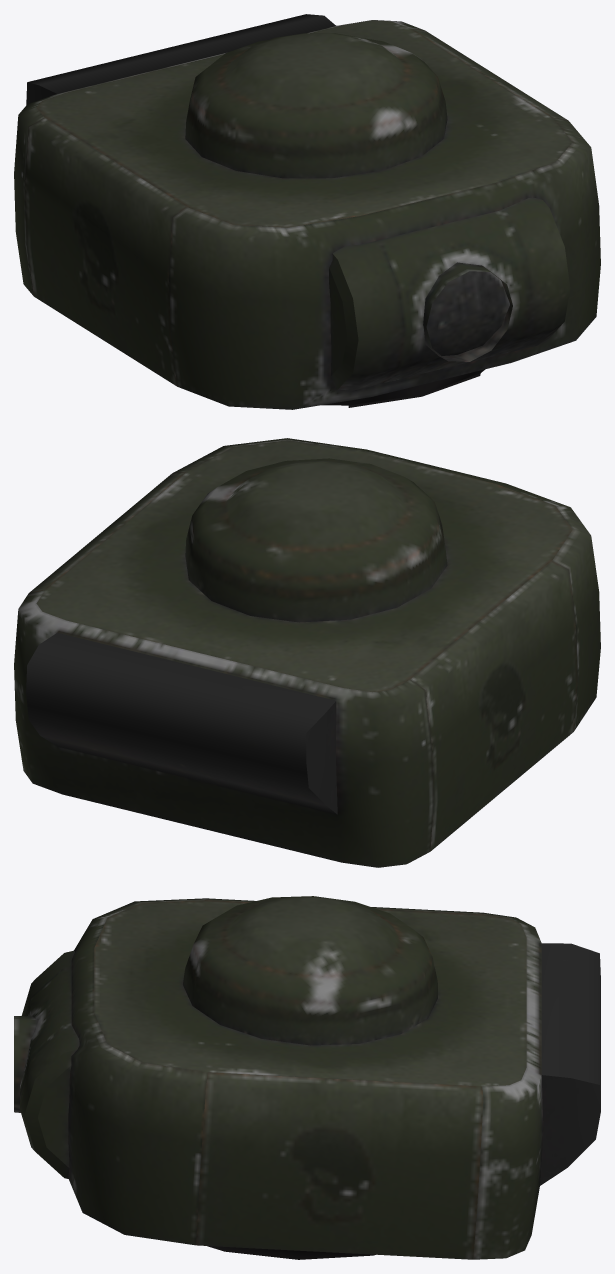
The model's file is head.obj.
3 views of the same model, one above another, from view 1: azimuth 30°, elevation 25°; view 2: azimuth 150°, elevation 25°; view 3: azimuth 270°, elevation 25° (orthographic). The views are drawn at different scales.
Visible parts, largest first — view 1: Tank.003_Tank.003; view 2: Tank.003_Tank.003; view 3: Tank.003_Tank.003.
Part boxes in pixels (box(x1,y1,x2,y2)): Tank.003_Tank.003: box(14, 14, 600, 409); Tank.003_Tank.003: box(14, 438, 600, 867); Tank.003_Tank.003: box(14, 896, 600, 1259).
Bounding box in the file's own units: 102 × 65.33 × 131.
Materials: 1 (1 with a texture image).
